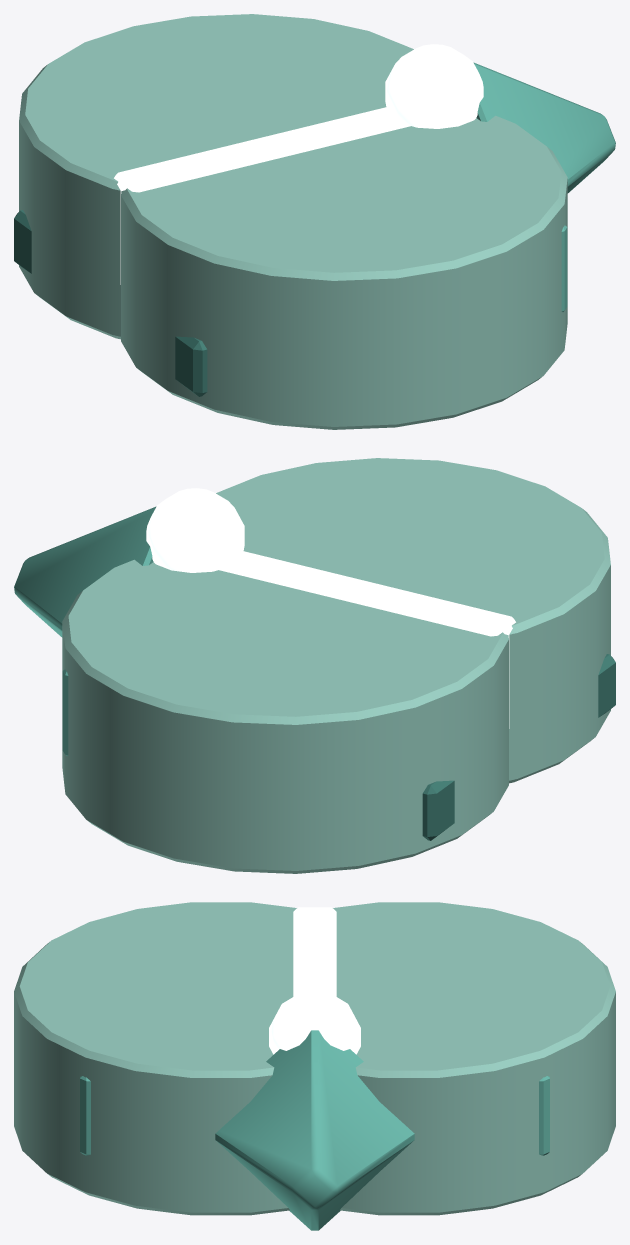
File: enemy_splitter.glb
The picture shows the model from 3 angles, top to bottom: view 1: azimuth 30°, elevation 25°; view 2: azimuth 150°, elevation 25°; view 3: azimuth 270°, elevation 25°; orthographic projection. The views are drawn at different scales.
Visible parts, largest first — view 1: Cylinder, Cylinder.001, Cone, Cube.004, Sphere, Cube.001, Cube.003, Cube; view 2: Cylinder.001, Cylinder, Cone, Cube.004, Sphere, Cube.003, Cube.001, Cube.002; view 3: Cylinder, Cylinder.001, Cone, Sphere, Cube.004, Cube, Cube.002.
Part boxes in pixels (box(x1,y1,x2,y2)): Cylinder: box(121, 88, 567, 429); Cylinder.001: box(19, 14, 424, 339); Cone: box(473, 62, 615, 193); Cube.004: box(114, 107, 410, 284); Sphere: box(385, 44, 483, 128); Cube.001: box(175, 336, 207, 396); Cube.003: box(14, 210, 31, 273); Cube: box(561, 225, 567, 311); Cylinder.001: box(62, 533, 508, 873); Cylinder: box(176, 458, 610, 783); Cone: box(14, 506, 156, 637); Cube.004: box(219, 551, 515, 728); Sphere: box(146, 488, 244, 572); Cube.003: box(422, 780, 454, 840); Cube.001: box(598, 654, 615, 717); Cube.002: box(62, 669, 68, 755); Cylinder: box(14, 902, 421, 1215); Cylinder.001: box(208, 902, 615, 1215); Cone: box(215, 1030, 414, 1230); Sphere: box(269, 990, 360, 1054); Cube.004: box(293, 907, 336, 996); Cube: box(80, 1076, 90, 1155); Cube.002: box(539, 1076, 549, 1155).
Bounding box in the file's own units: 1.15 × 0.5267 × 1.28.
